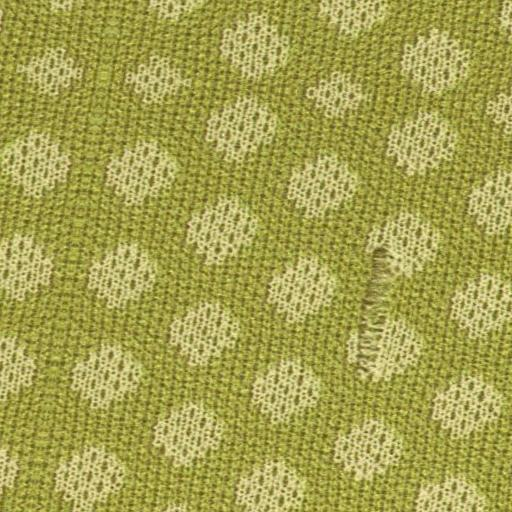slub: (353, 244, 392, 377)
